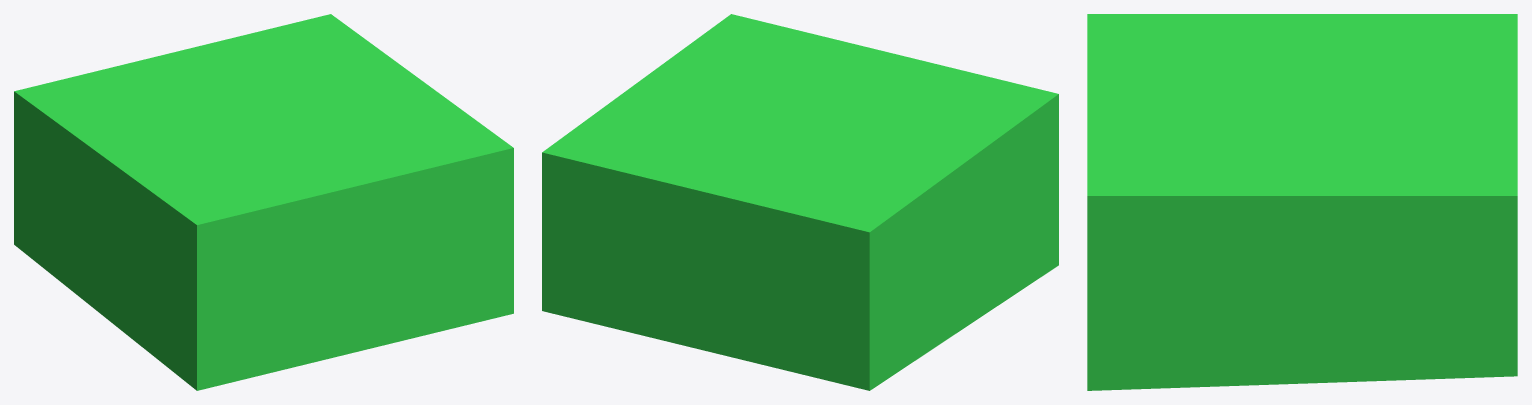
The model's file is grass-full.glb.
The picture shows the model from 3 angles, left to right: view 1: azimuth 30°, elevation 25°; view 2: azimuth 150°, elevation 25°; view 3: azimuth 270°, elevation 25°; orthographic projection. The views are drawn at different scales.
Visible parts, largest first — view 1: grass-full-col; view 2: grass-full-col; view 3: grass-full-col.
Boxes of the visible parts, <box> form: grass-full-col: <box>14,14,513,390</box>; grass-full-col: <box>542,14,1058,390</box>; grass-full-col: <box>1087,14,1517,390</box>.
Size of the model in its own units: 2 by 1 by 2.
